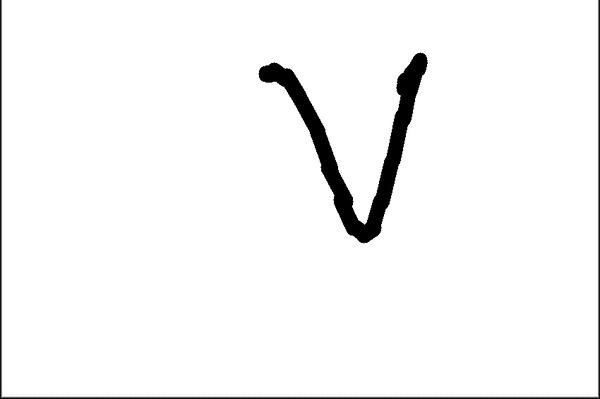V: (256, 51, 444, 251)
